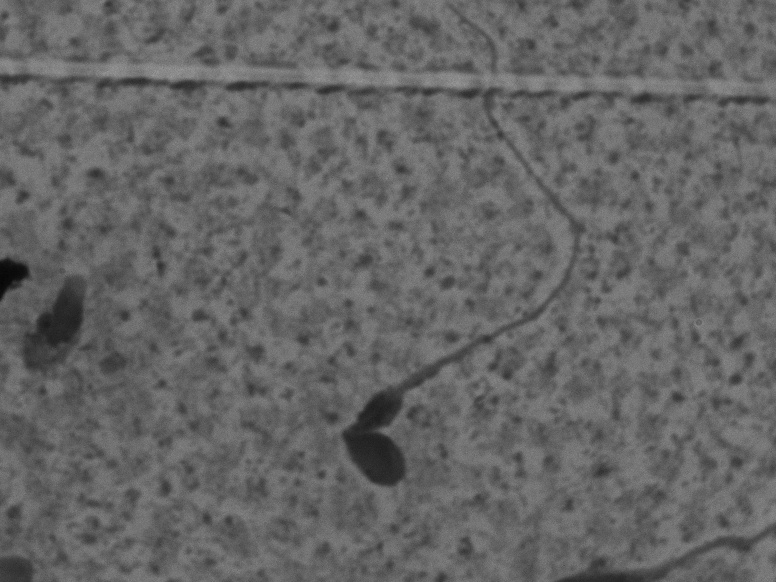Abnormal: (332, 9, 585, 504), (14, 230, 120, 414)
